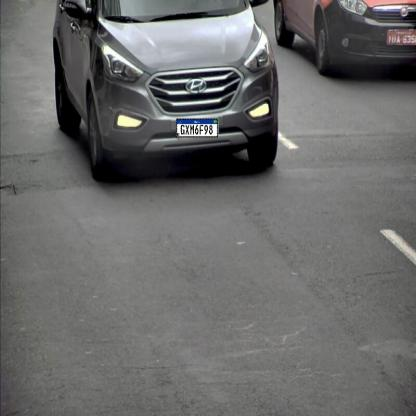PlacaM: (176, 119, 218, 137)
